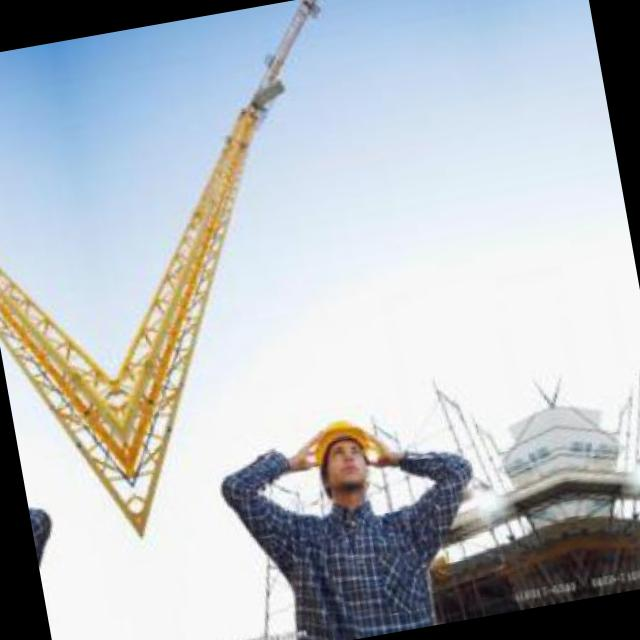helmet: (290, 403, 393, 517)
